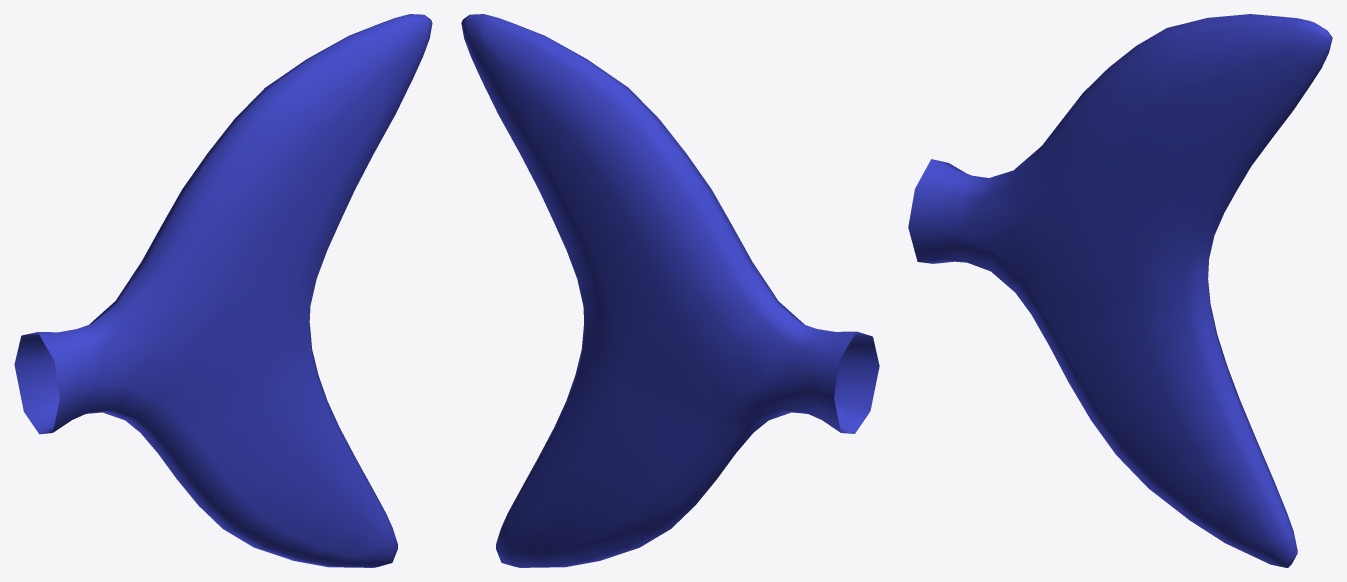
File: queue_fish_blue.glb
The picture shows the model from 3 angles, left to right: view 1: azimuth 30°, elevation 25°; view 2: azimuth 150°, elevation 25°; view 3: azimuth 330°, elevation 25°; orthographic projection.
Visible parts, largest first — view 1: node_id6; view 2: node_id6; view 3: node_id6.
Part boxes in pixels (x1,y1,x2,y2): node_id6: (14, 14, 432, 567); node_id6: (461, 14, 879, 567); node_id6: (908, 14, 1332, 567).
Size of the model in its own units: 0.3874 by 0.512 by 0.0775.
1 material, 1 textured.
